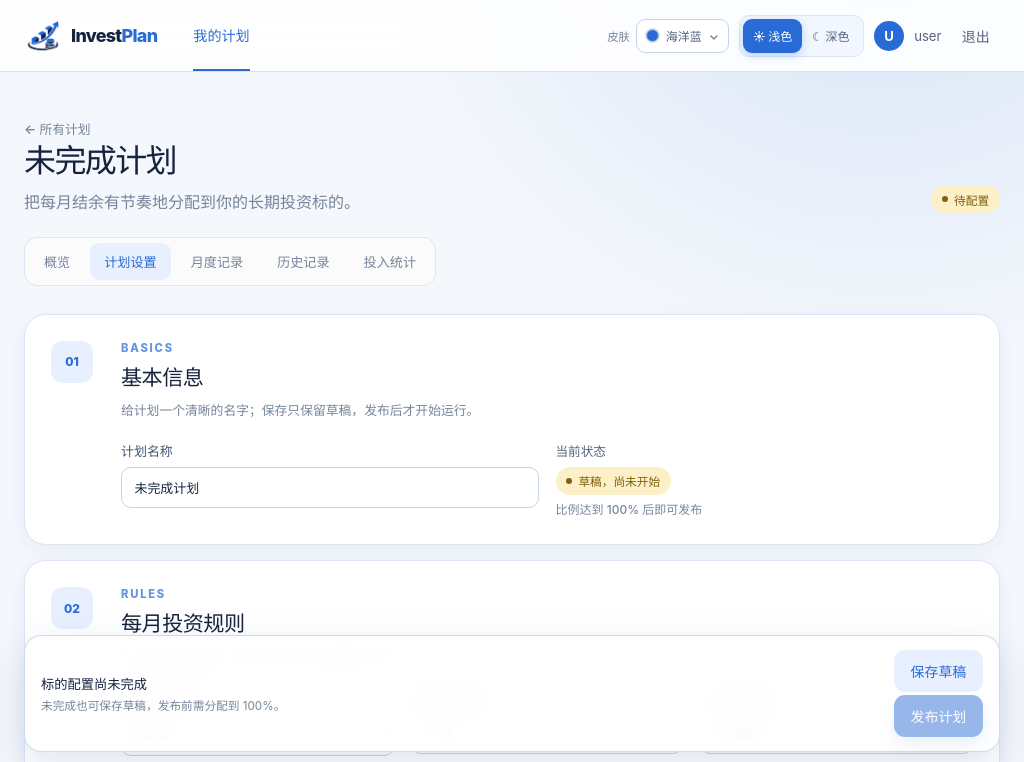
Scenario: investment target settings › saves incomplete settings as a draft and gates publishing
Expected: the button "发布计划" is disabled, left=894, top=695, right=983, bottom=737
Click the button "保存草稿". click: click(938, 671)
box: left=894, top=650, right=983, bottom=692
(page scrolled)
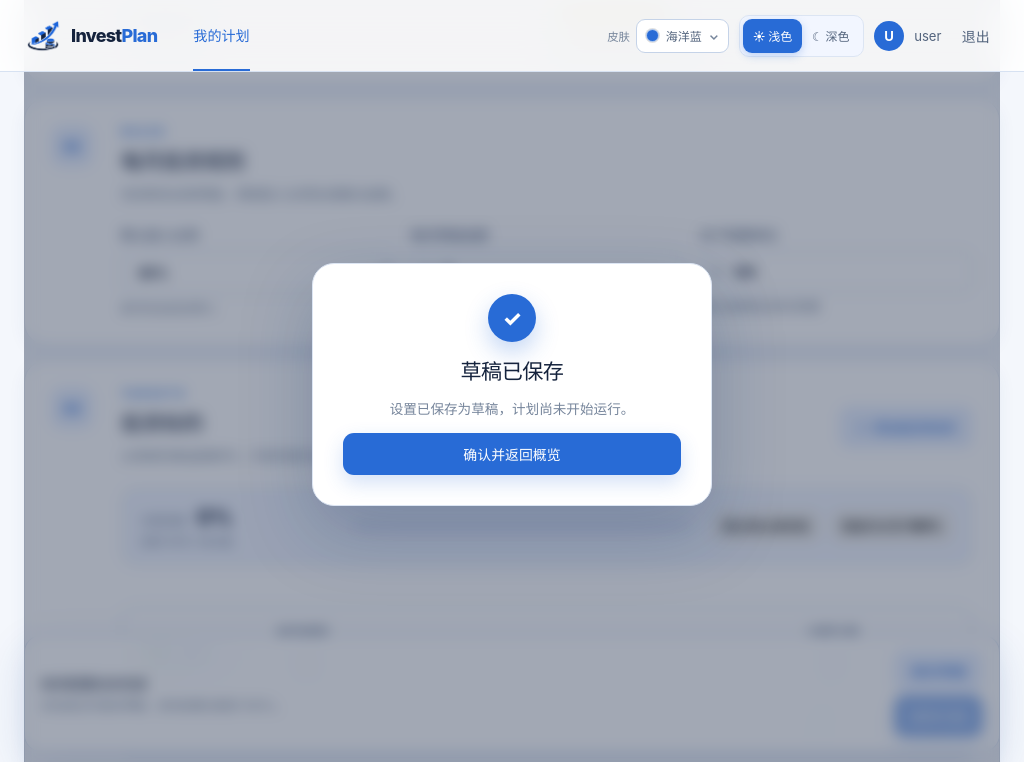
Expected: the dialog "草稿已保存" shows "计划尚未开始运行", left=390, top=401, right=634, bottom=417
